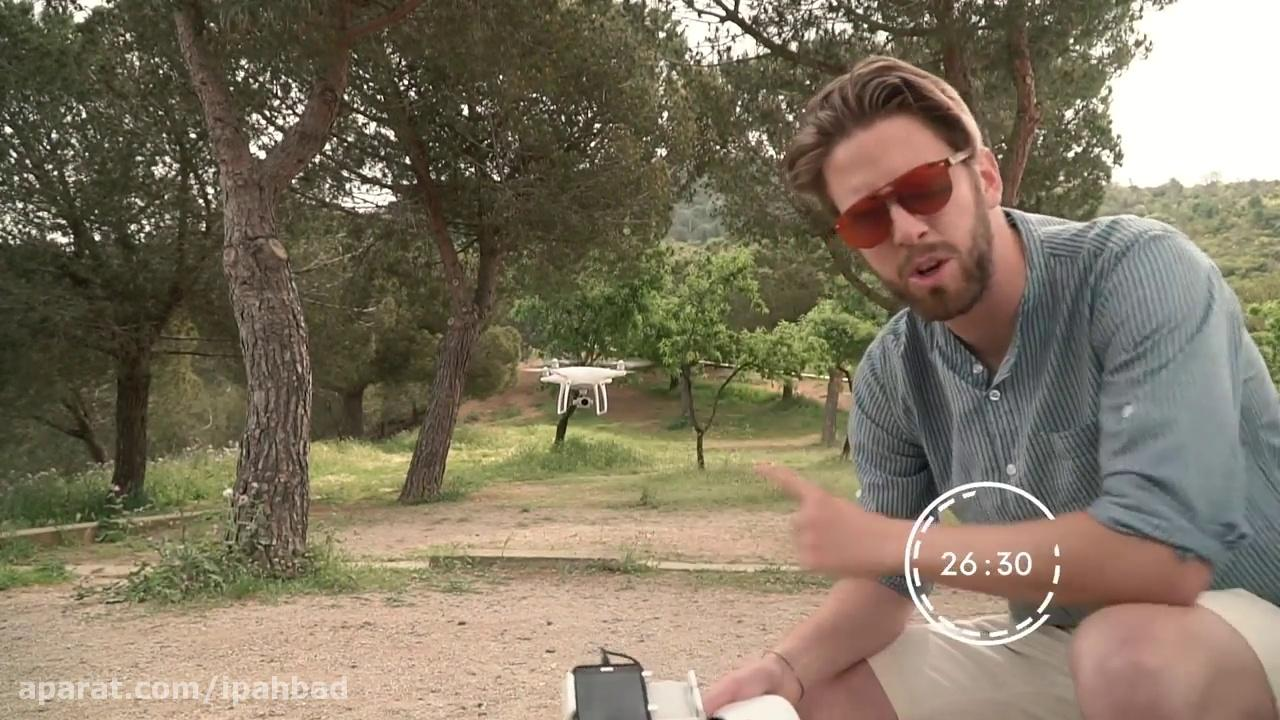drone: (516, 355, 653, 415)
